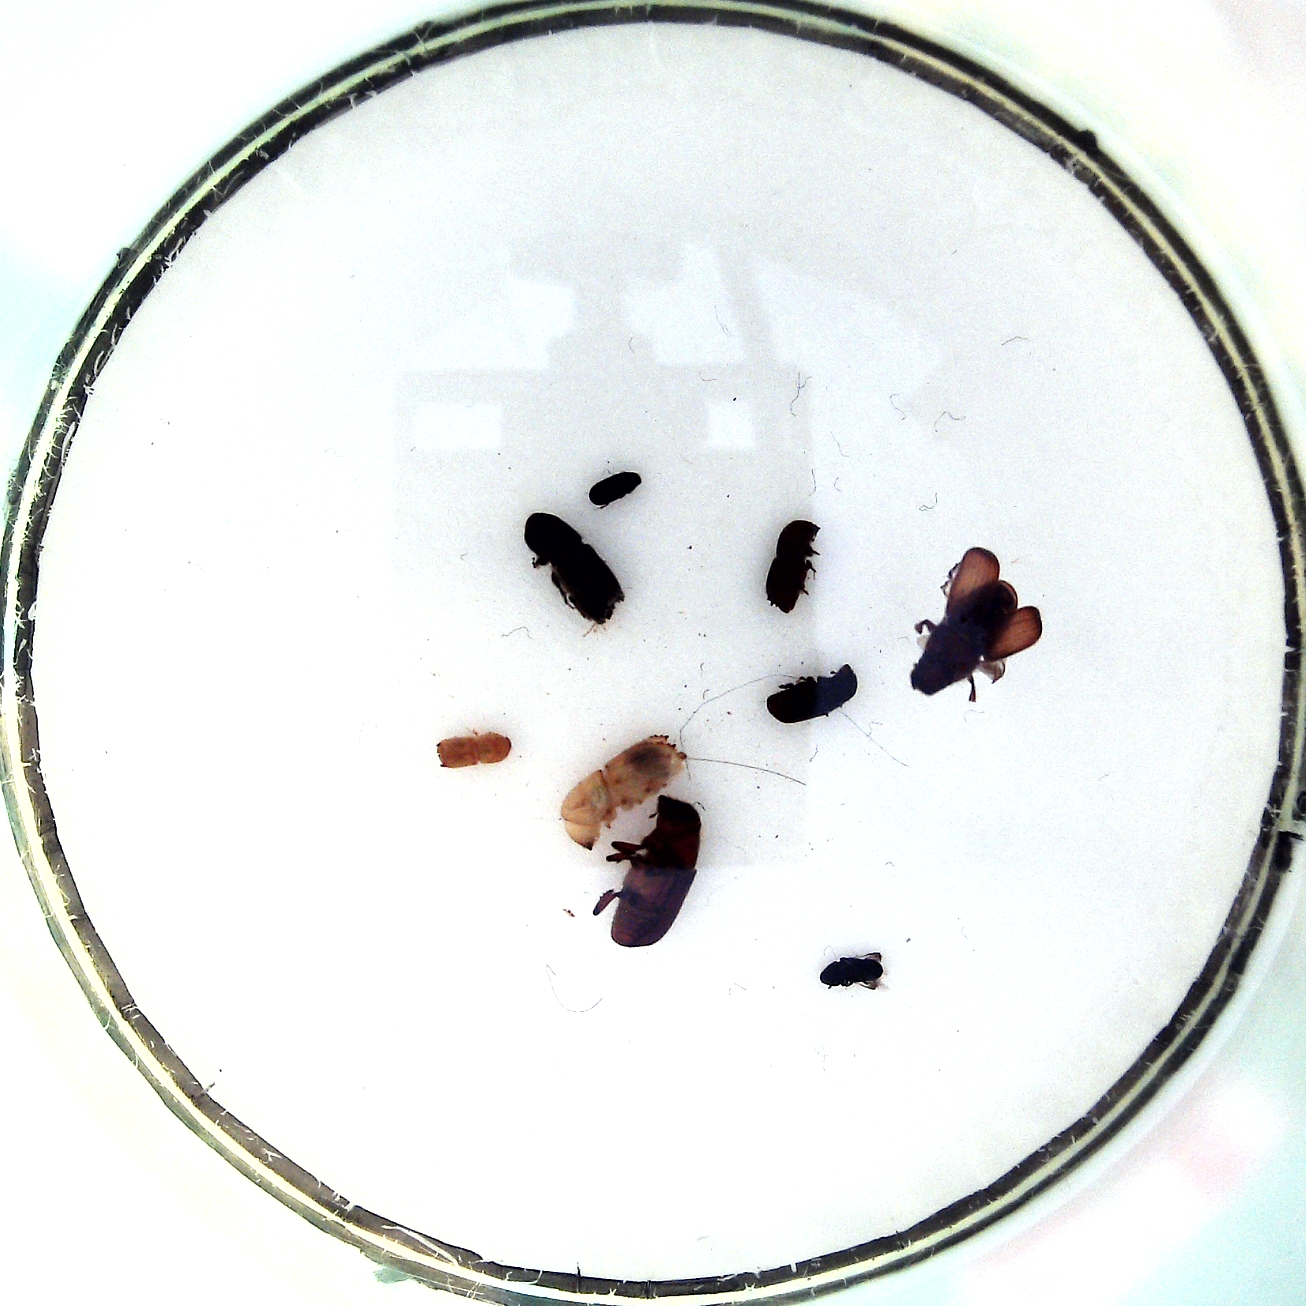Boerner: (553, 728, 698, 853)
Leconte: (585, 787, 709, 951), (514, 507, 631, 640)
Linnaeus: (762, 517, 826, 615)
acuminatus: (429, 722, 524, 773)
armandi: (762, 659, 865, 727)
coleoptera: (901, 543, 1050, 707), (816, 948, 899, 997), (586, 468, 647, 509)
